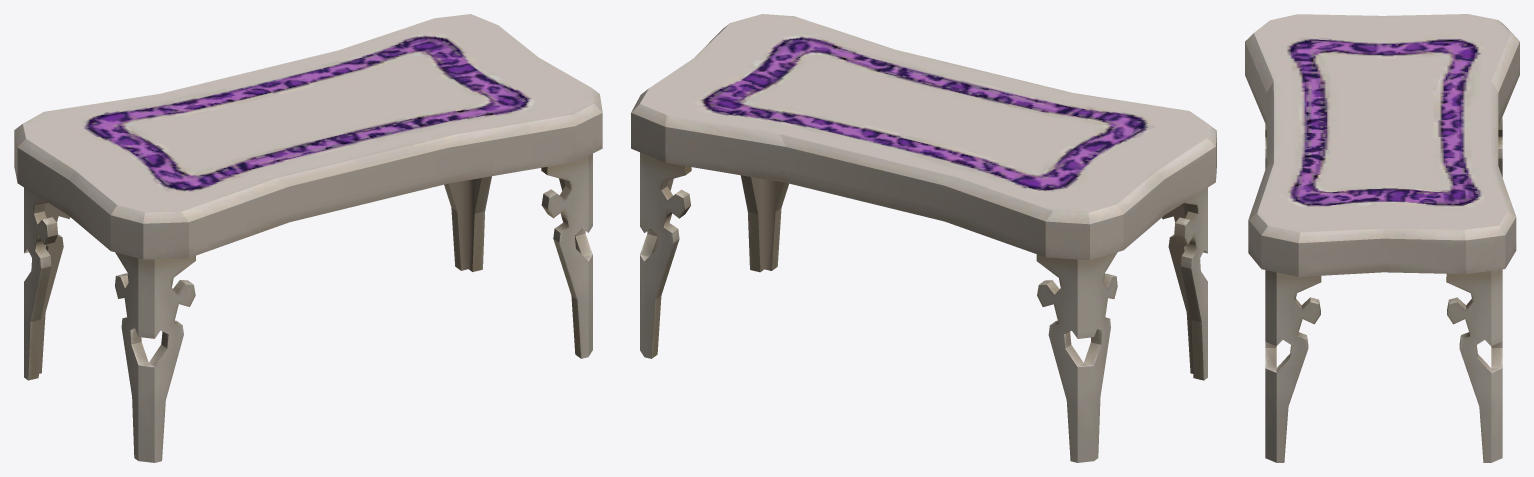
The model's file is furni_0200080_03.FBX.
3 views of the same model, side by side, from view 1: azimuth 30°, elevation 25°; view 2: azimuth 150°, elevation 25°; view 3: azimuth 270°, elevation 25° (orthographic). The views are drawn at different scales.
Visible parts, largest first — view 1: furni_0200080_03; view 2: furni_0200080_03; view 3: furni_0200080_03.
Part boxes in pixels (x1,y1,x2,y2): furni_0200080_03: (14,14,602,462); furni_0200080_03: (631,14,1216,462); furni_0200080_03: (1245,14,1519,462).
Bounding box in the file's own units: 165 × 80.26 × 84.88.
1 material, 1 textured.
